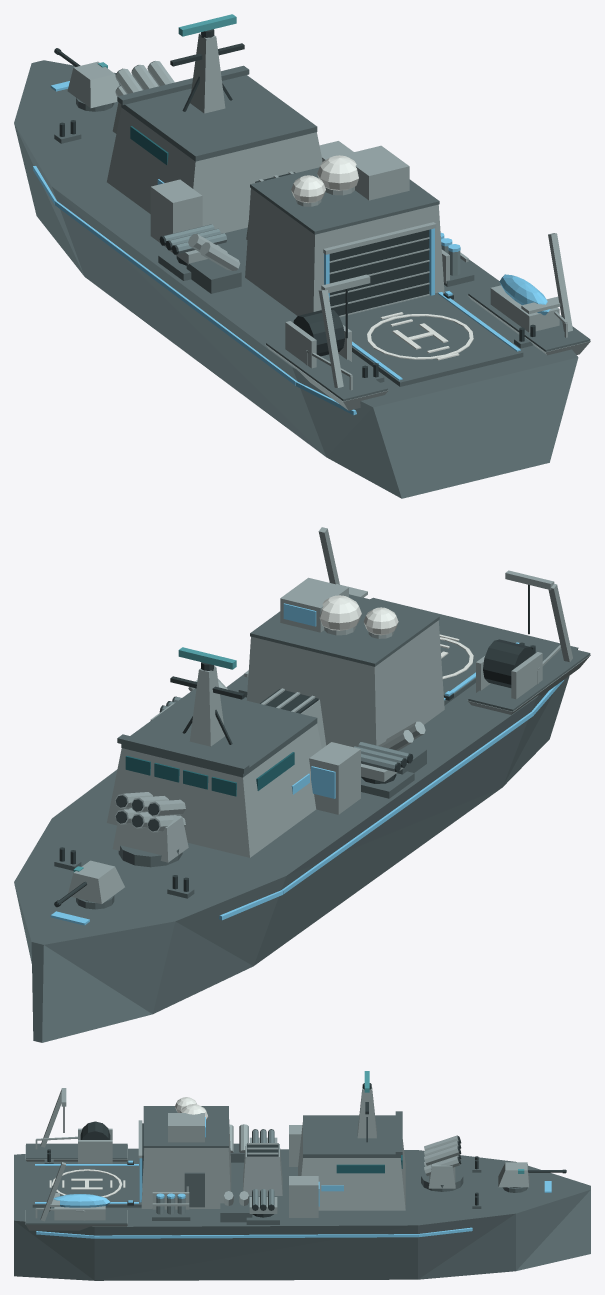
File: ESC_ASW_T3.fbx
3 renders of one model, top to bottom at view 1: azimuth 30°, elevation 25°; view 2: azimuth 150°, elevation 25°; view 3: azimuth 270°, elevation 25°, orthographic. The views are drawn at different scales.
Visible parts, largest first — view 1: ContinuousHull.006, Deckhouse.006, HelicopterHangar.001, HelicopterDeck.002, Roof.006, AftFacingHangarDoor.001, HangarRoof.001, AcousticProcessingCabinet, AcousticControlCabinet, ASWWorkingDeck, NavMast.002, PrimaryGunCupola.006 (+16 smaller); view 2: ContinuousHull.006, HelicopterHangar.001, Deckhouse.006, Roof.006, HangarRoof.001, AcousticProcessingCabinet, HelicopterDeck.002, ASWWorkingDeck, ASWRocketYoke, NavMast.002, AcousticControlCabinet, PrimaryGunCupola.006 (+10 smaller); view 3: ContinuousHull.006, Deckhouse.006, HelicopterHangar.001, Roof.006, HelicopterDeck.002, HangarRoof.001, FunnelEnclosure.006, RoleHullStripe1_1.006, AcousticProcessingCabinet.001, ASWWorkingDeck, AcousticControlCabinet, ASWWorkingDeck.001 (+21 smaller).
Part boxes in pixels (x1,y1,x2,y2): ContinuousHull.006: [14, 60, 578, 498]; Deckhouse.006: [107, 108, 322, 233]; HelicopterHangar.001: [245, 188, 444, 315]; HelicopterDeck.002: [340, 292, 523, 386]; Roof.006: [121, 75, 317, 161]; AftFacingHangarDoor.001: [329, 230, 429, 315]; HangarRoof.001: [250, 167, 439, 234]; AcousticProcessingCabinet: [150, 179, 202, 246]; AcousticControlCabinet: [341, 145, 409, 200]; ASWWorkingDeck: [266, 338, 387, 401]; NavMast.002: [190, 33, 225, 113]; PrimaryGunCupola.006: [67, 61, 119, 107]; ContinuousHull.006: [14, 597, 578, 1042]; HelicopterHangar.001: [247, 620, 444, 747]; Deckhouse.006: [107, 723, 321, 857]; Roof.006: [121, 688, 317, 777]; HangarRoof.001: [250, 594, 439, 666]; AcousticProcessingCabinet: [309, 742, 360, 814]; HelicopterDeck.002: [439, 623, 516, 705]; ASWWorkingDeck: [468, 642, 590, 711]; ASWRocketYoke: [112, 808, 188, 862]; NavMast.002: [189, 666, 224, 746]; AcousticControlCabinet: [280, 577, 348, 632]; PrimaryGunCupola.006: [68, 860, 124, 904]; ContinuousHull.006: [14, 1148, 590, 1280]; Deckhouse.006: [298, 1122, 405, 1210]; HelicopterHangar.001: [141, 1119, 231, 1208]; Roof.006: [303, 1115, 400, 1157]; HelicopterDeck.002: [32, 1165, 141, 1207]; HangarRoof.001: [143, 1106, 228, 1147]; FunnelEnclosure.006: [243, 1144, 282, 1195]; RoleHullStripe1_1.006: [94, 1234, 417, 1238]; AcousticProcessingCabinet.001: [289, 1176, 318, 1217]; ASWWorkingDeck: [26, 1143, 127, 1159]; AcousticControlCabinet: [168, 1113, 204, 1142]; ASWWorkingDeck.001: [26, 1209, 127, 1224].
Size of the model in its own units: 294 by 297 by 900.
